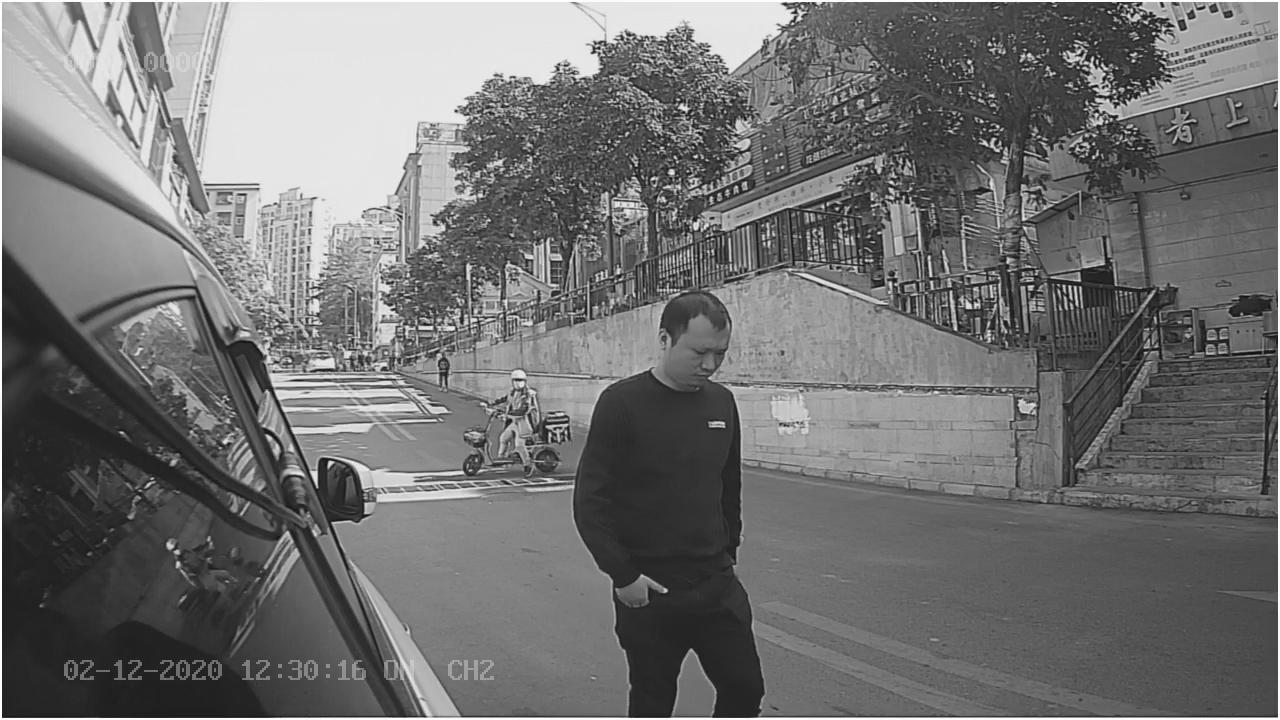person: (568, 288, 759, 612)
